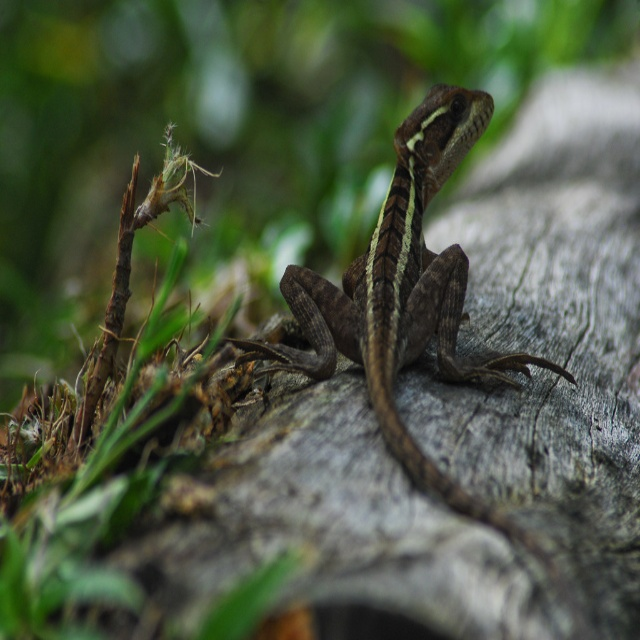Lizard: (226, 80, 576, 577)
